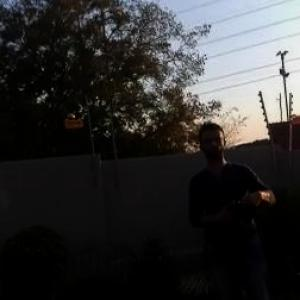follow: (181, 115, 288, 299)
